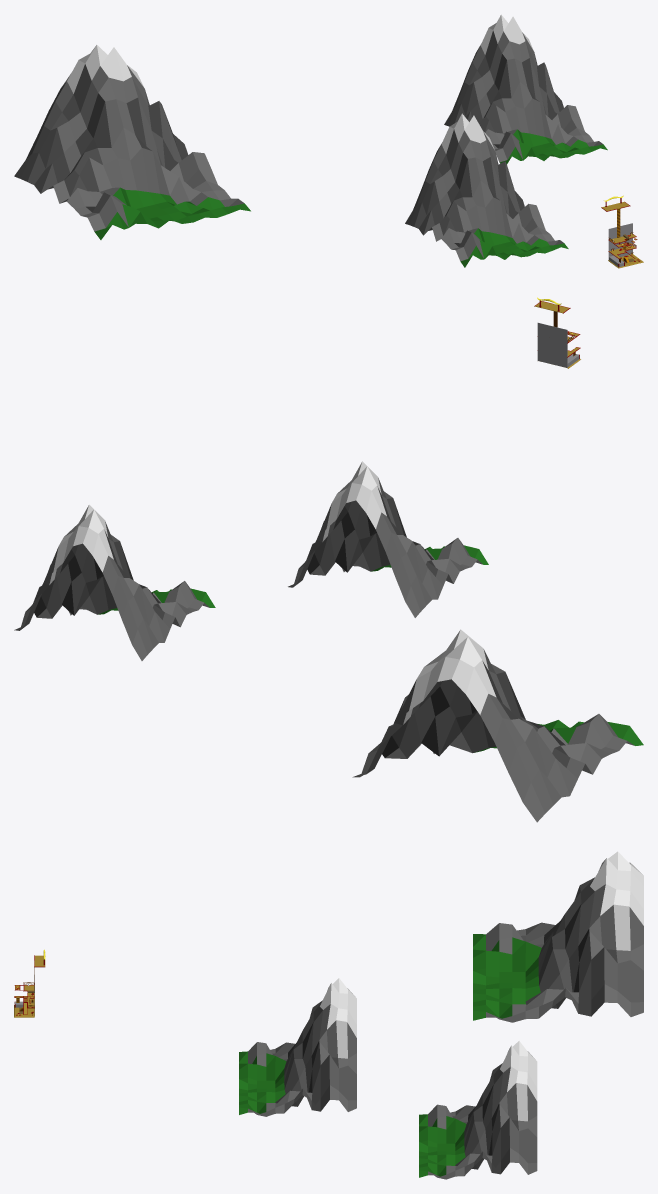
The model's file is temple_assembly_2.fbx.
3 views of the same model, one above another, from view 1: azimuth 30°, elevation 25°; view 2: azimuth 150°, elevation 25°; view 3: azimuth 270°, elevation 25° (orthographic). The views are drawn at different scales.
Visible parts, largest first — view 1: Plane.002, Plane, Plane.001, Cube.001; view 2: Plane.002, Plane.001, Plane, Cube.001; view 3: Plane.002, Plane.001, Plane.
Part boxes in pixels (box(x1,y1,x2,y2)): Plane.002: box(14, 45, 250, 239); Plane: box(405, 113, 568, 267); Plane.001: box(444, 14, 607, 164); Cube.001: box(608, 223, 632, 259); Plane.002: box(352, 629, 643, 822); Plane.001: box(14, 504, 215, 660); Plane: box(288, 461, 488, 617); Cube.001: box(537, 322, 567, 367); Plane.002: box(473, 851, 643, 1022); Plane.001: box(419, 1041, 537, 1179); Plane: box(239, 978, 356, 1116).
Size of the model in its own units: 63742 by 18648 by 73697.
